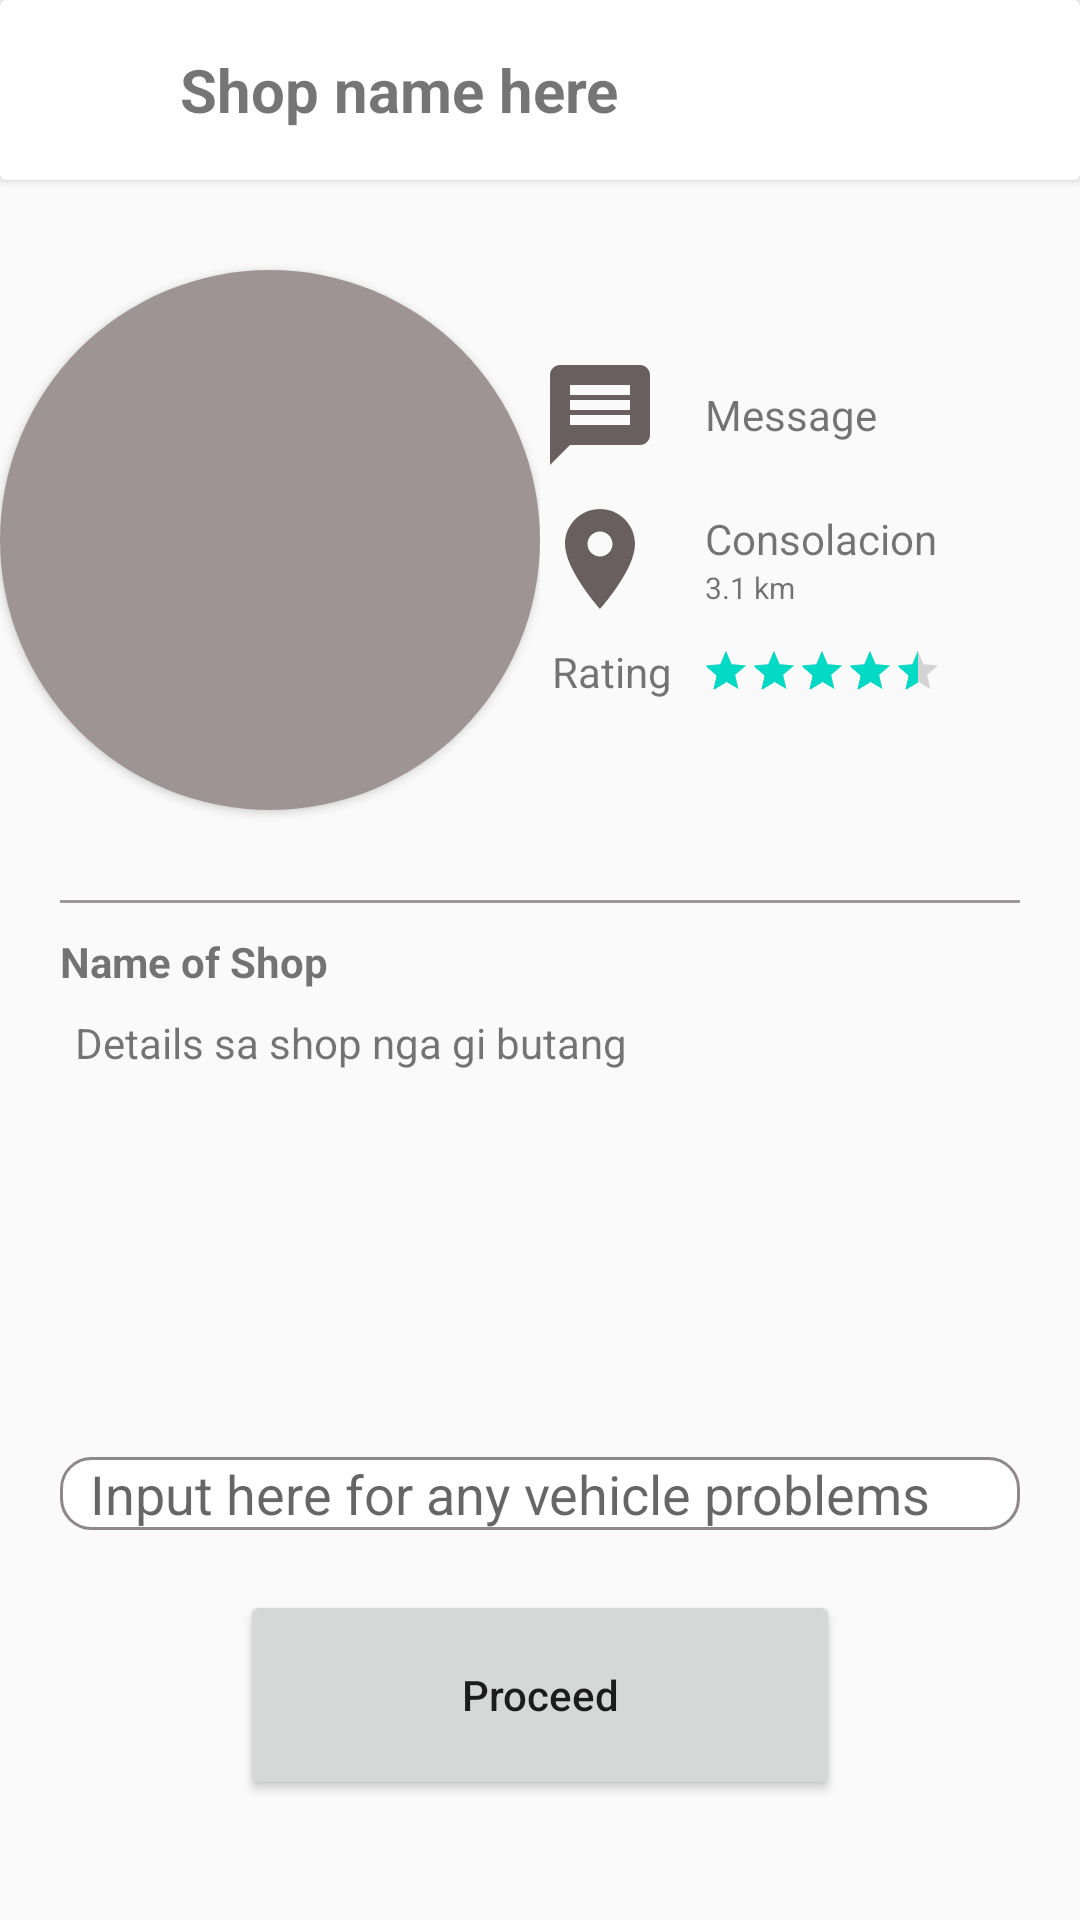

Icon click points for this 1080w x 1920h phone screenshot, format (x=x, y=y):
location on: (x=600, y=559)
